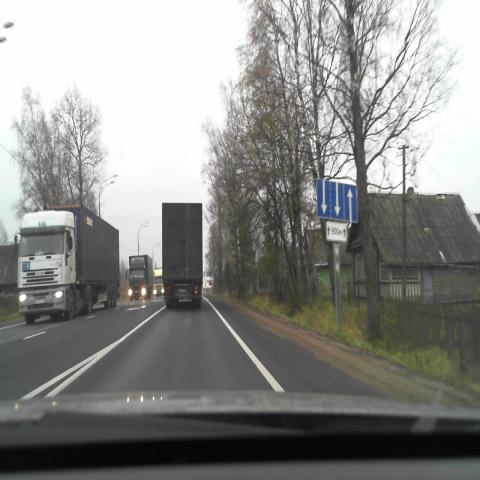5_15_7: (317, 179, 358, 223)
